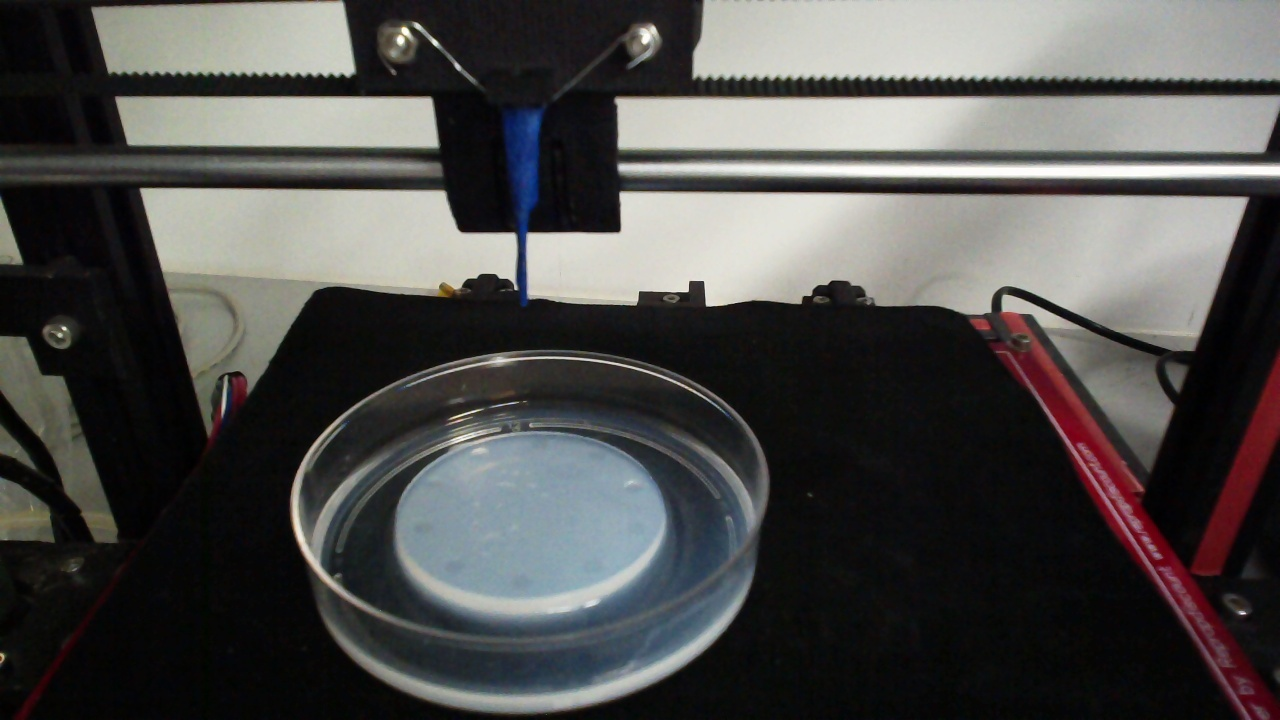groove: (509, 572, 533, 591), (620, 478, 647, 494), (444, 558, 467, 576), (581, 557, 604, 575), (625, 519, 647, 537), (412, 520, 434, 535), (468, 444, 488, 459), (423, 476, 446, 489), (528, 438, 548, 451), (585, 449, 608, 460)
needle: (506, 109, 541, 305)
